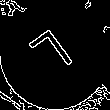L_SE: (28, 26, 82, 84)
